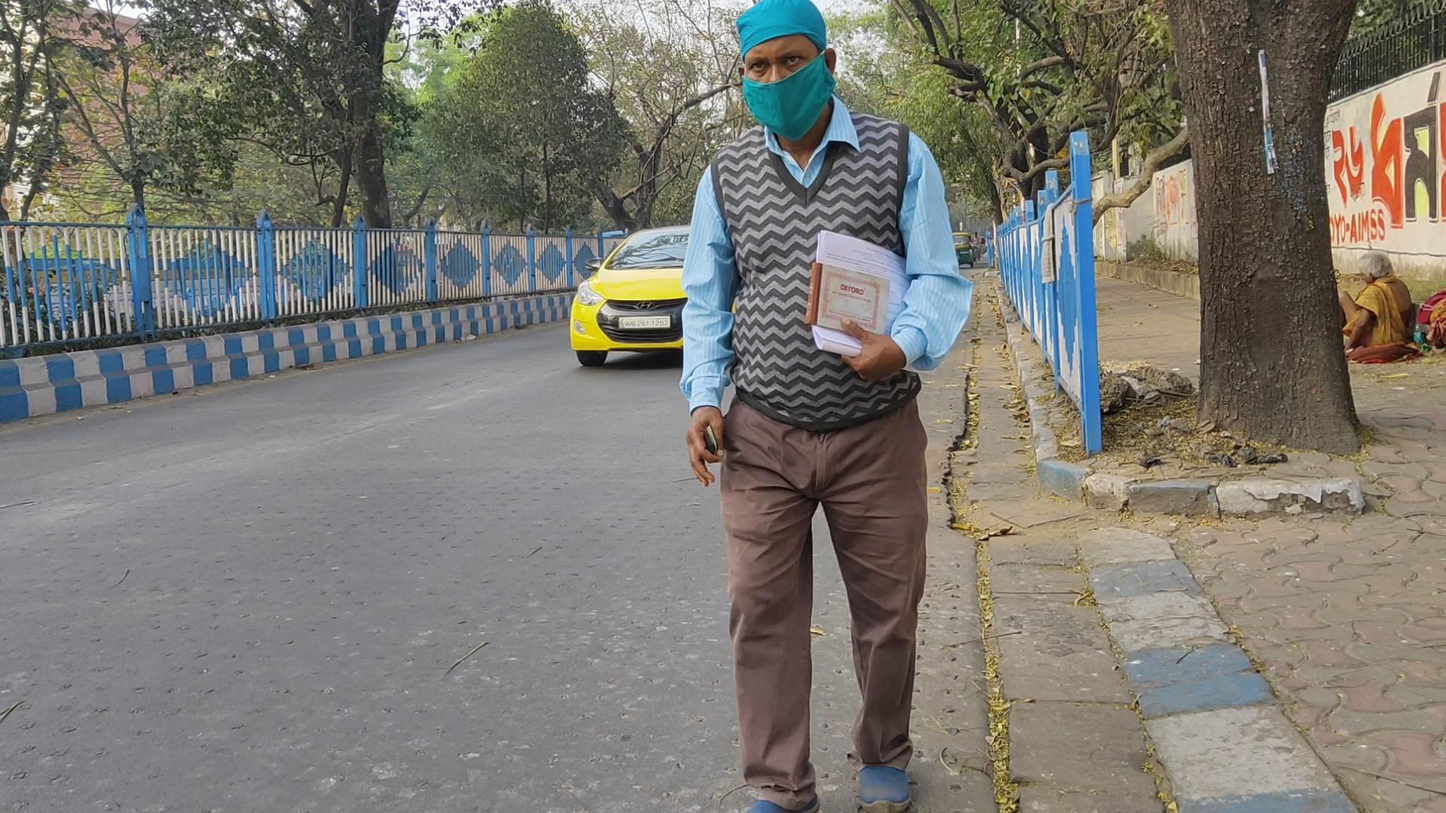Auto: (952, 230, 976, 270)
car: (569, 225, 694, 367)
